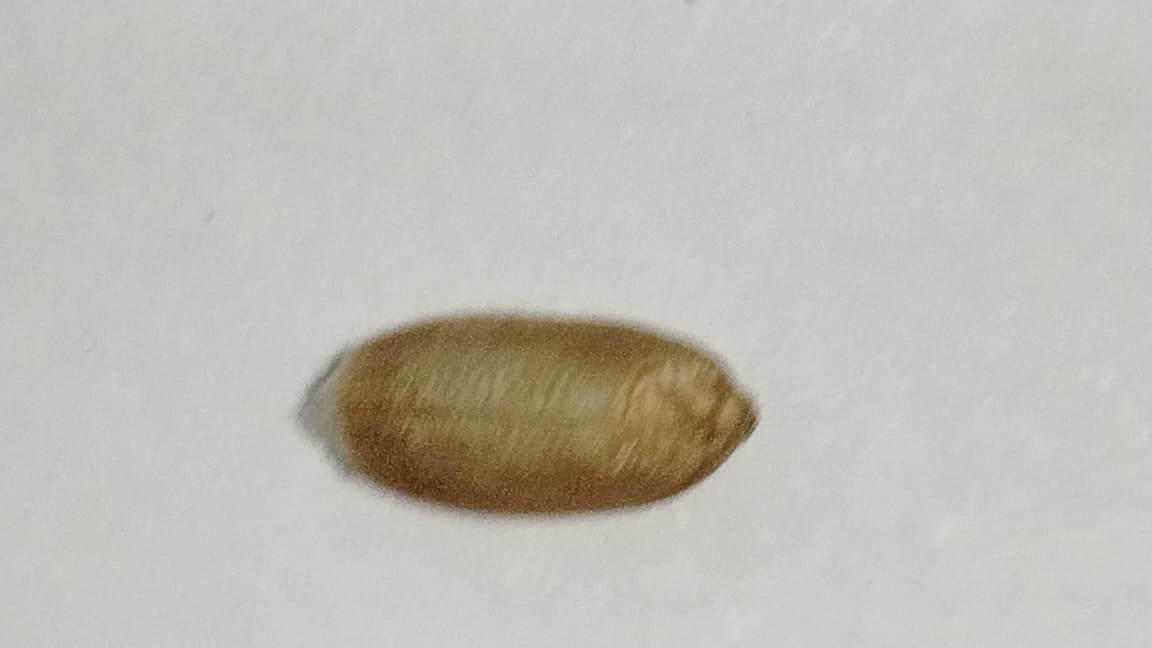healthy: (323, 310, 756, 514)
